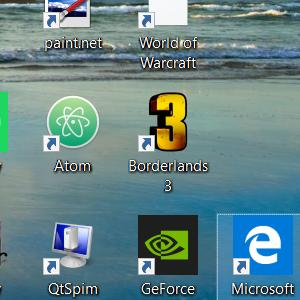edge: (232, 215, 293, 276)
